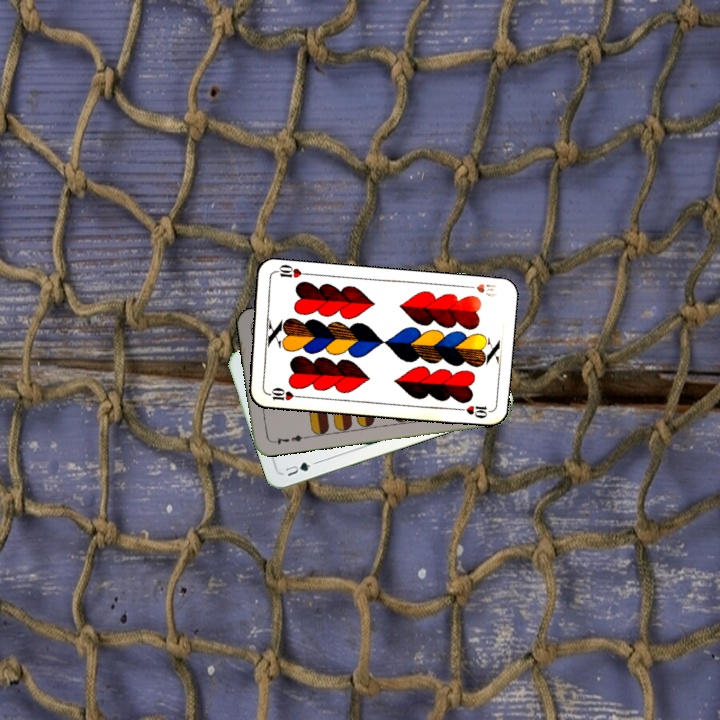E7: (268, 431, 308, 447)
GU: (281, 458, 319, 479)
H10: (263, 384, 303, 403), (461, 280, 499, 300)
